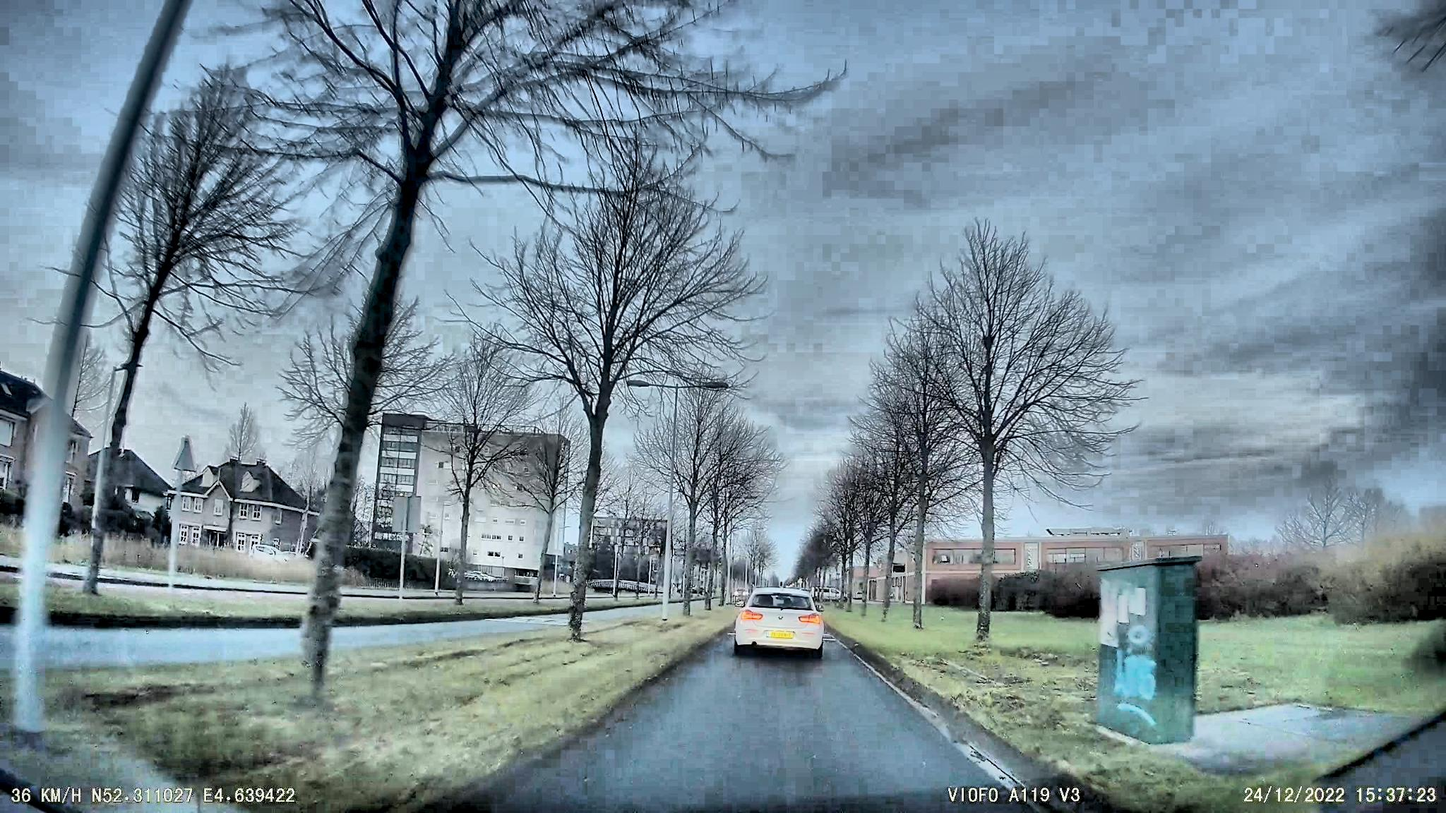Roads: (408, 633, 1085, 813)
